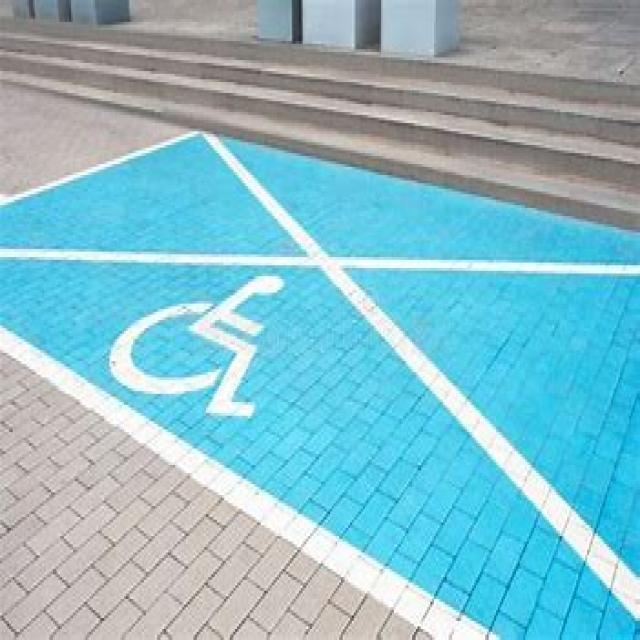symbol_of_access: (108, 271, 290, 420)
